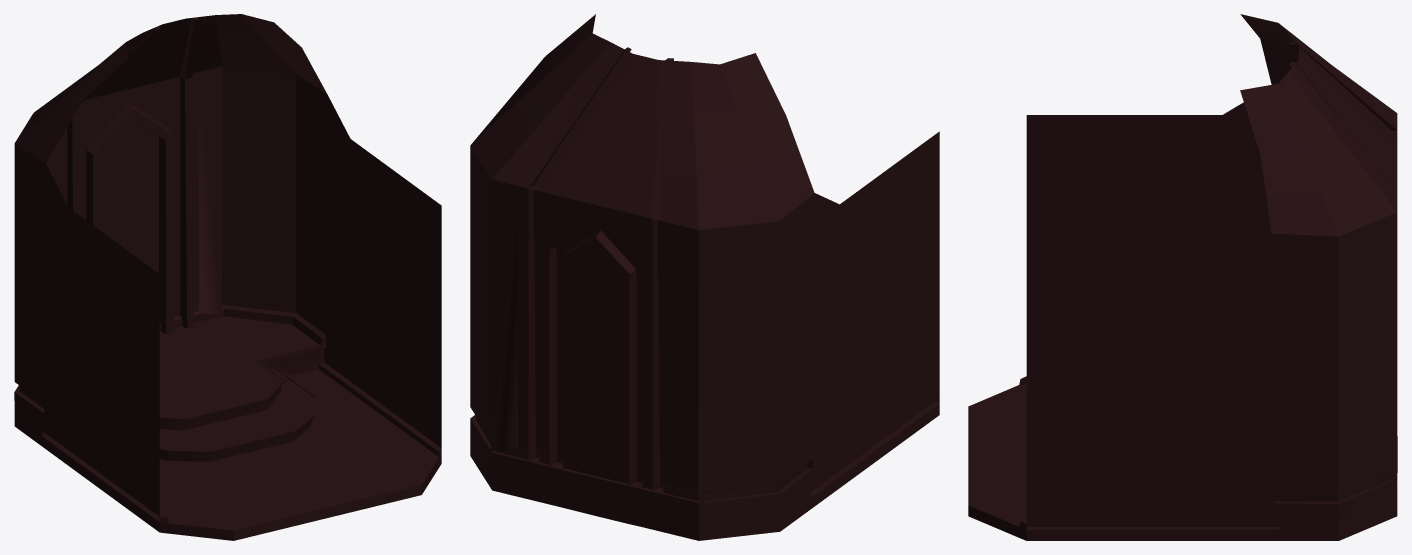
The model's file is Stage.obj.
The picture shows the model from 3 angles, left to right: view 1: azimuth 30°, elevation 25°; view 2: azimuth 150°, elevation 25°; view 3: azimuth 270°, elevation 25°; orthographic projection. The views are drawn at different scales.
Visible parts, largest first — view 1: default; view 2: default; view 3: default.
Boxes of the visible parts, x1,y1,x2,y2 form: default: (14,14,441,540); default: (470,14,939,540); default: (968,14,1397,540).
Size of the model in its own units: 16.38 by 21.37 by 20.05.
